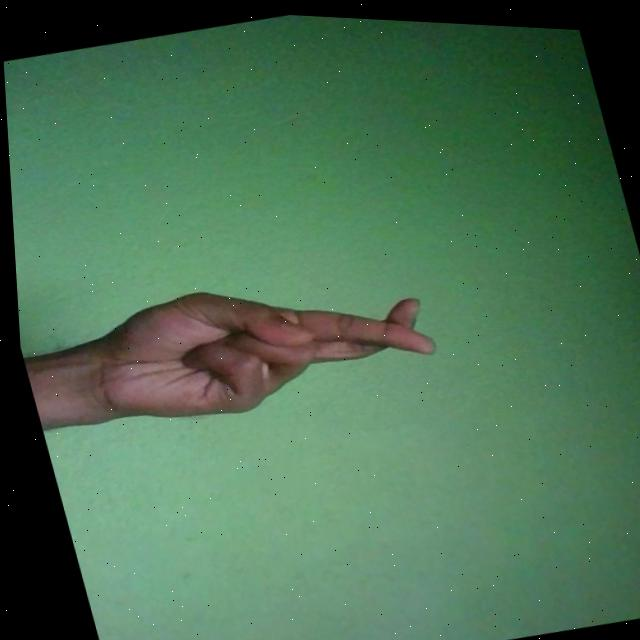Good Luck: (64, 239, 443, 447)
